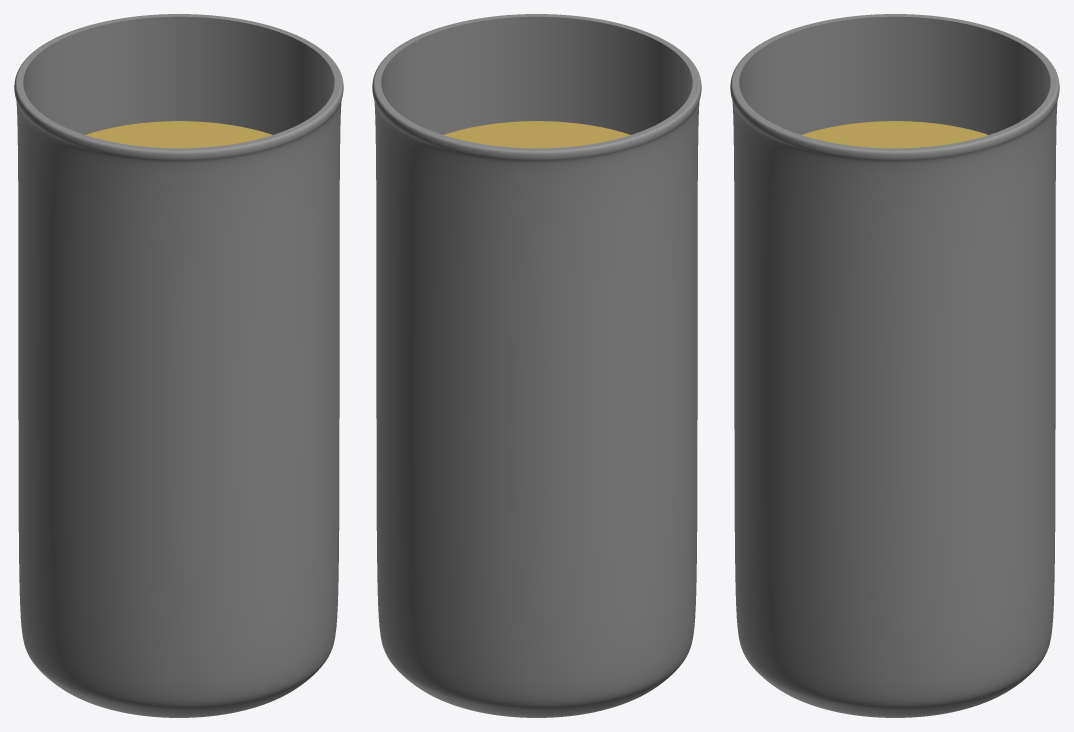
The model's file is chai.glb.
3 renders of one model, left to right at view 1: azimuth 30°, elevation 25°; view 2: azimuth 150°, elevation 25°; view 3: azimuth 270°, elevation 25°, orthographic.
Parts seen in each view (by area): view 1: Object_3, Object_2; view 2: Object_3, Object_2; view 3: Object_3, Object_2.
Part boxes in pixels (<box>): Object_3: <box>14,14,343,717</box>; Object_2: <box>85,121,271,148</box>; Object_3: <box>372,14,701,717</box>; Object_2: <box>444,121,630,148</box>; Object_3: <box>730,14,1059,717</box>; Object_2: <box>802,121,987,148</box>.
Bounding box in the file's own units: 1.02 × 2 × 1.02.
